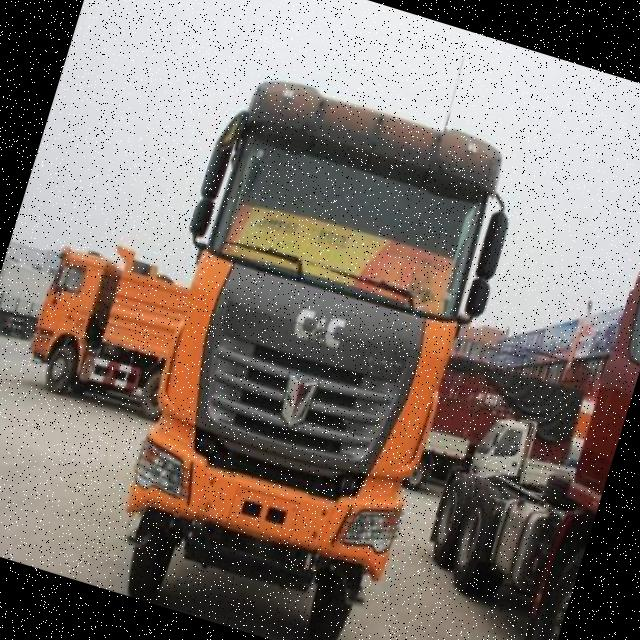Dump Truck: (77, 53, 534, 640), (18, 212, 218, 420)
